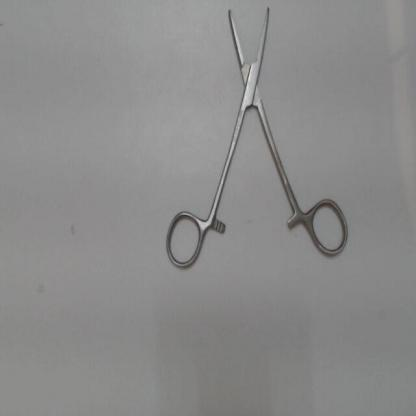Mayo Needle Holder: (158, 2, 351, 276)
